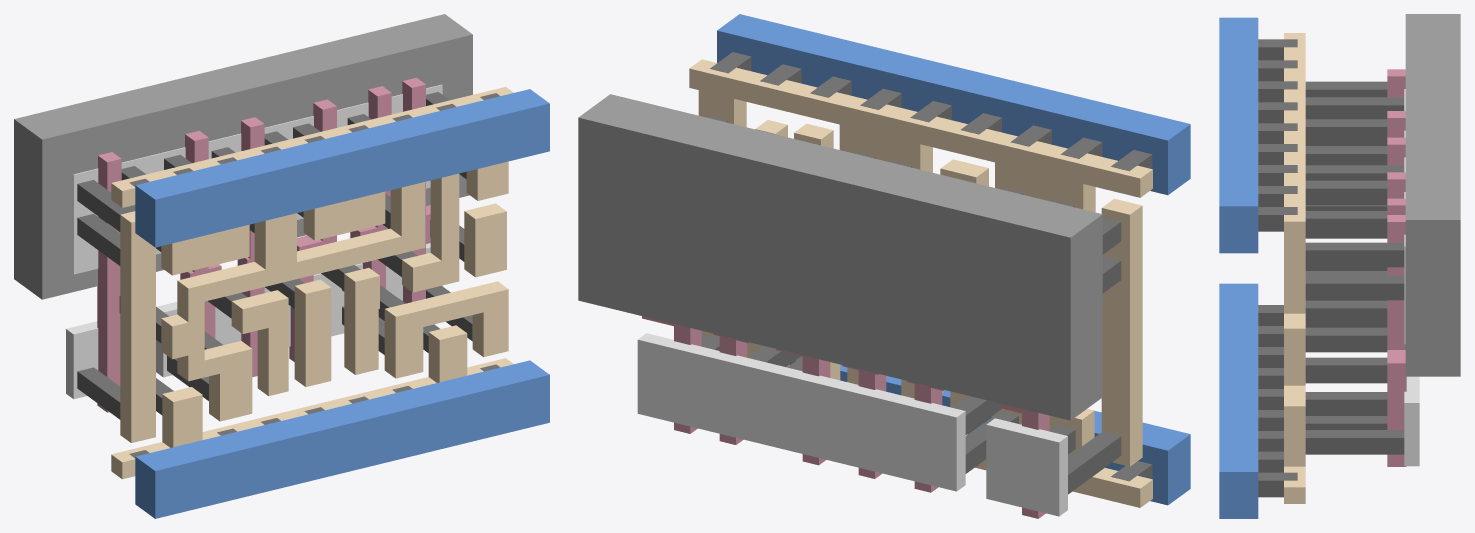
File: sky130_fd_sc_hd__o2111a_1.gds.gltf
The picture shows the model from 3 angles, left to right: view 1: azimuth 30°, elevation 25°; view 2: azimuth 150°, elevation 25°; view 3: azimuth 270°, elevation 25°; orthographic projection. The views are drawn at different scales.
Visible parts, largest first — view 1: sky130_fd_sc_hd__o2111a_1_li1, sky130_fd_sc_hd__o2111a_1_met1, sky130_fd_sc_hd__o2111a_1_nwell, sky130_fd_sc_hd__o2111a_1_licon, sky130_fd_sc_hd__o2111a_1_poly, sky130_fd_sc_hd__o2111a_1_diff, sky130_fd_sc_hd__o2111a_1_mcon; view 2: sky130_fd_sc_hd__o2111a_1_nwell, sky130_fd_sc_hd__o2111a_1_li1, sky130_fd_sc_hd__o2111a_1_diff, sky130_fd_sc_hd__o2111a_1_met1, sky130_fd_sc_hd__o2111a_1_licon, sky130_fd_sc_hd__o2111a_1_mcon, sky130_fd_sc_hd__o2111a_1_poly; view 3: sky130_fd_sc_hd__o2111a_1_licon, sky130_fd_sc_hd__o2111a_1_nwell, sky130_fd_sc_hd__o2111a_1_met1, sky130_fd_sc_hd__o2111a_1_mcon, sky130_fd_sc_hd__o2111a_1_li1, sky130_fd_sc_hd__o2111a_1_poly, sky130_fd_sc_hd__o2111a_1_diff.
Part boxes in pixels (x1,y1,x2,y2): sky130_fd_sc_hd__o2111a_1_li1: [111, 86, 513, 479]; sky130_fd_sc_hd__o2111a_1_met1: [135, 89, 549, 518]; sky130_fd_sc_hd__o2111a_1_nwell: [14, 14, 472, 299]; sky130_fd_sc_hd__o2111a_1_licon: [77, 92, 472, 419]; sky130_fd_sc_hd__o2111a_1_poly: [97, 77, 430, 412]; sky130_fd_sc_hd__o2111a_1_diff: [66, 84, 442, 399]; sky130_fd_sc_hd__o2111a_1_mcon: [129, 93, 500, 457]; sky130_fd_sc_hd__o2111a_1_nwell: [578, 94, 1102, 420]; sky130_fd_sc_hd__o2111a_1_li1: [689, 59, 1152, 507]; sky130_fd_sc_hd__o2111a_1_diff: [637, 333, 1067, 516]; sky130_fd_sc_hd__o2111a_1_met1: [717, 14, 1190, 505]; sky130_fd_sc_hd__o2111a_1_licon: [701, 116, 1121, 494]; sky130_fd_sc_hd__o2111a_1_mcon: [710, 52, 1152, 481]; sky130_fd_sc_hd__o2111a_1_poly: [642, 316, 1049, 518]; sky130_fd_sc_hd__o2111a_1_licon: [1305, 81, 1404, 454]; sky130_fd_sc_hd__o2111a_1_nwell: [1405, 14, 1460, 376]; sky130_fd_sc_hd__o2111a_1_met1: [1219, 17, 1258, 518]; sky130_fd_sc_hd__o2111a_1_mcon: [1258, 39, 1297, 497]; sky130_fd_sc_hd__o2111a_1_li1: [1284, 33, 1305, 503]; sky130_fd_sc_hd__o2111a_1_poly: [1387, 69, 1406, 466]; sky130_fd_sc_hd__o2111a_1_diff: [1404, 89, 1419, 466].
Bounding box in the file's own units: 4.52 × 3.2 × 2.24.
